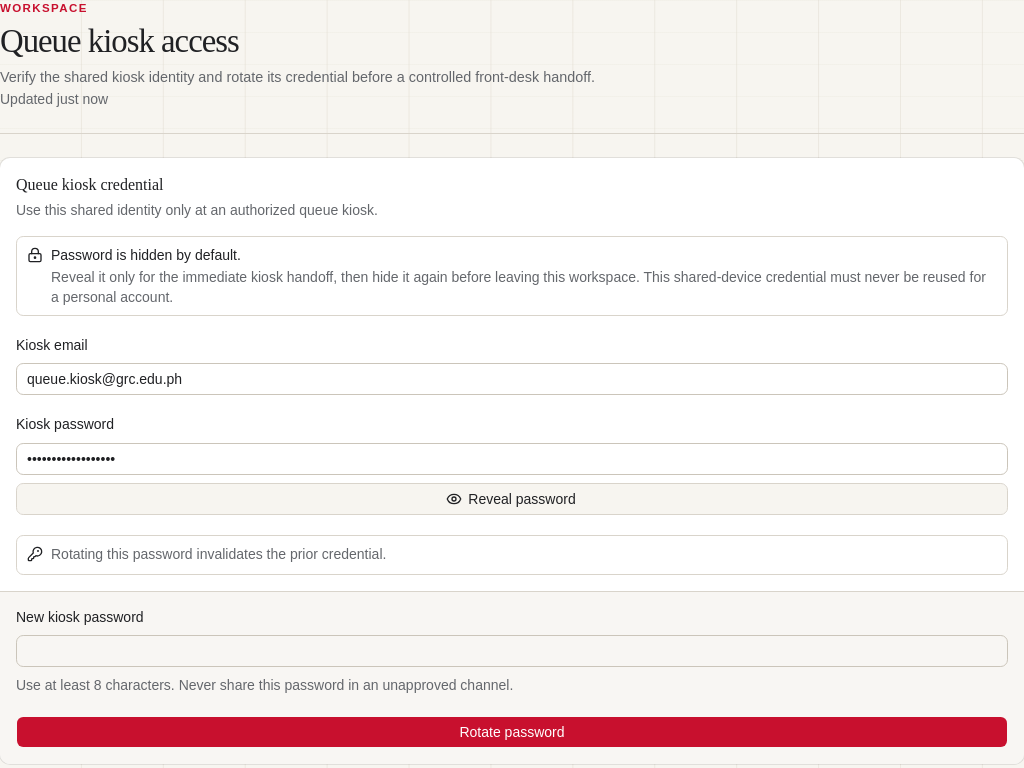
Test: QueueKioskAccessWorkspace › does not render viewer A's dialog, error, or status during viewer B's rerender
The width and height of the screenshot is (1024, 768).
Check: the password field labelled "Kiosk password" is shown, box [16,443,1008,475]
Type "rotated-password" into the password field labelled "New kiosk password" at (512, 651), box [16,635,1008,667]
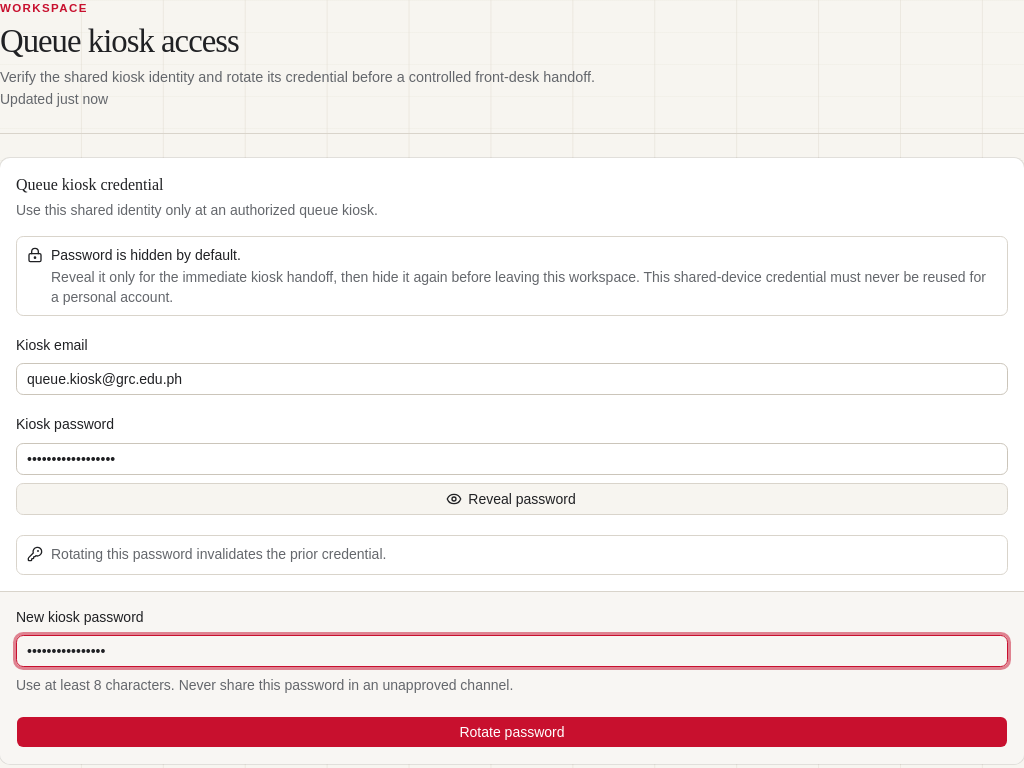
Click the button "Rotate password" at (512, 732), box [16,716,1008,748]
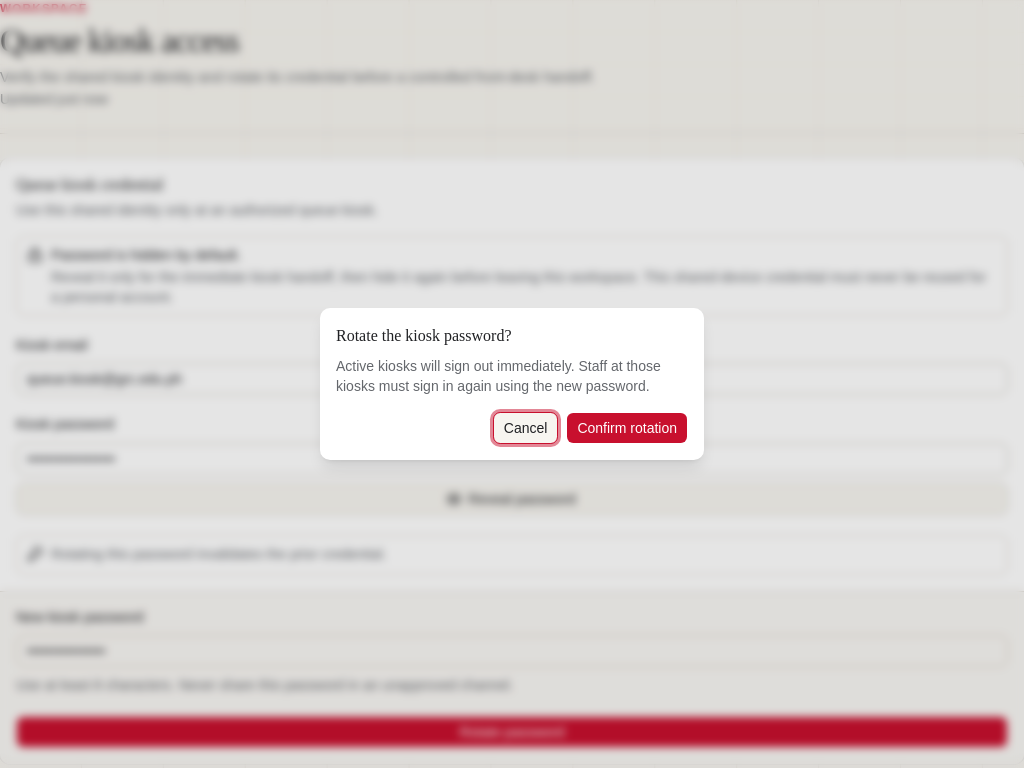
Click the button "Confirm rotation" at (627, 428), box [566,412,688,444]
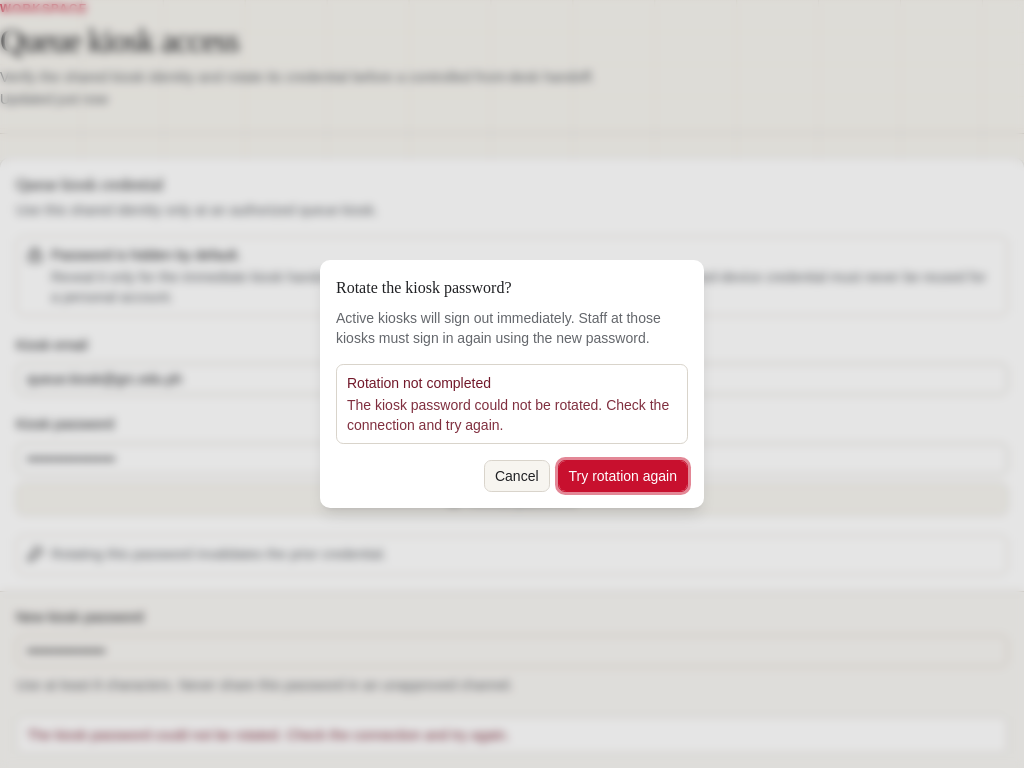
Check: the dialog shows "The kiosk password could not be rotated.", box [347,397,669,433]
